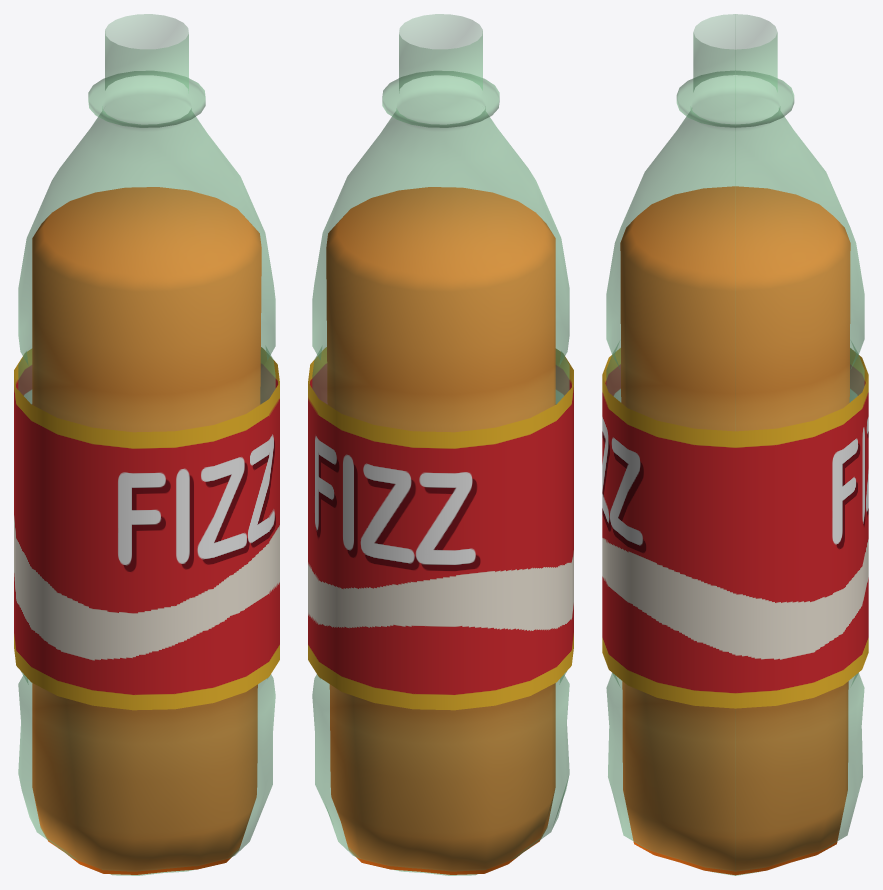
File: bottle.glb
3 renders of one model, left to right at view 1: azimuth 30°, elevation 25°; view 2: azimuth 150°, elevation 25°; view 3: azimuth 270°, elevation 25°, orthographic.
Parts seen in each view (by area): view 1: Bottle, Liquid, Label; view 2: Bottle, Liquid, Label; view 3: Bottle, Liquid, Label.
Part boxes in pixels (left/top/right/bottom): Bottle: left=18, top=14, right=275, bottom=875; Liquid: left=32, top=187, right=261, bottom=874; Label: left=14, top=347, right=279, bottom=710; Bottle: left=312, top=14, right=569, bottom=875; Liquid: left=326, top=187, right=555, bottom=874; Label: left=308, top=347, right=573, bottom=710; Bottle: left=606, top=14, right=864, bottom=875; Liquid: left=620, top=186, right=850, bottom=875; Label: left=602, top=348, right=868, bottom=708.
Size of the model in its own units: 0.095 by 0.318 by 0.095.
3 materials, 1 textured.
